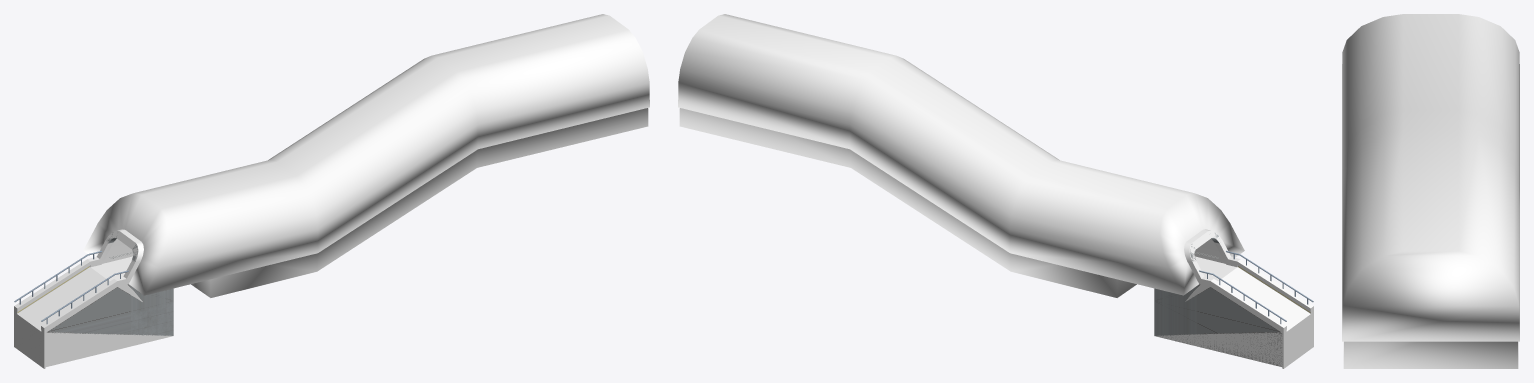
Rendered from objects_un_dlc2_passage01.gltf.
The picture shows the model from 3 angles, left to right: view 1: azimuth 30°, elevation 25°; view 2: azimuth 150°, elevation 25°; view 3: azimuth 270°, elevation 25°; orthographic projection. The views are drawn at different scales.
Parts seen in each view (by area): view 1: um_objects_un_dlc2_passage01_model_lod0Shape:a_sch_2_passage (×3), um_objects_un_dlc2_passage01_model_lod0Shape:objects_un_dlc2; view 2: um_objects_un_dlc2_passage01_model_lod0Shape:a_sch_2_passage (×3), um_objects_un_dlc2_passage01_model_lod0Shape:objects_un_dlc2; view 3: um_objects_un_dlc2_passage01_model_lod0Shape:a_sch_2_passage, um_objects_un_dlc2_passage01_model_lod0Shape:objects_un_dlc2.
Boxes of the visible parts, box(x1,y1,x2,y2) form: um_objects_un_dlc2_passage01_model_lod0Shape:a_sch_2_passage (×3): box(14, 14, 649, 368); um_objects_un_dlc2_passage01_model_lod0Shape:objects_un_dlc2: box(191, 108, 648, 297); um_objects_un_dlc2_passage01_model_lod0Shape:a_sch_2_passage (×3): box(678, 14, 1313, 368); um_objects_un_dlc2_passage01_model_lod0Shape:objects_un_dlc2: box(679, 108, 1136, 297); um_objects_un_dlc2_passage01_model_lod0Shape:a_sch_2_passage: box(1342, 14, 1519, 341); um_objects_un_dlc2_passage01_model_lod0Shape:objects_un_dlc2: box(1343, 341, 1518, 368).
Size of the model in its own units: 106 by 32.93 by 19.08.
Materials: 19 (15 with a texture image).
